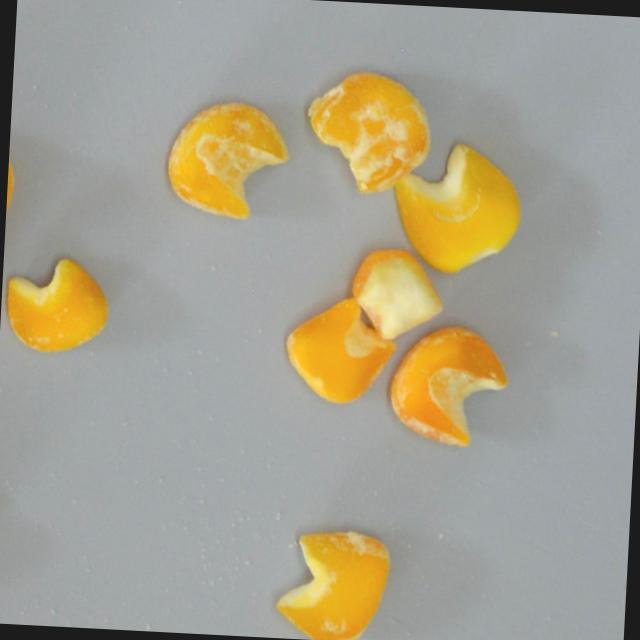no_canjicado: (389, 140, 524, 278)
no_desgerminado: (348, 246, 446, 342)
pelicula: (302, 67, 435, 198), (386, 319, 508, 450), (164, 96, 291, 221), (273, 528, 392, 640), (282, 295, 397, 406), (2, 255, 112, 356)
